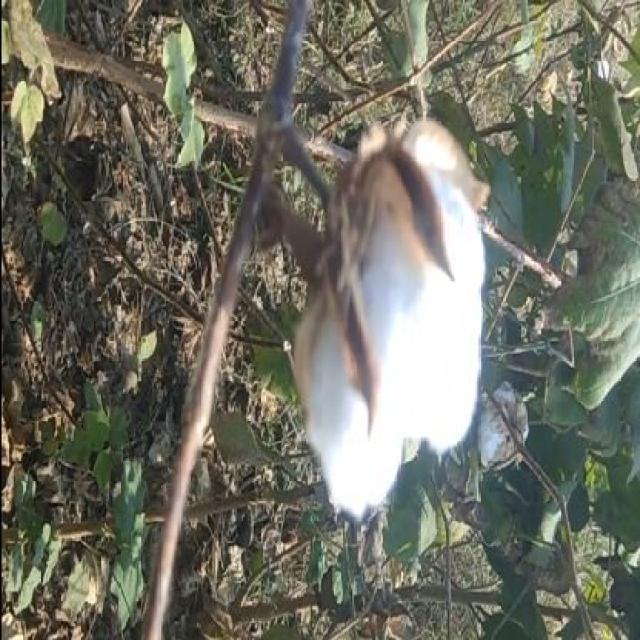cotton_ready: (247, 76, 527, 510)
